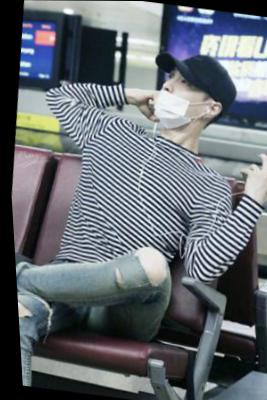WRONG: (151, 67, 205, 130)
